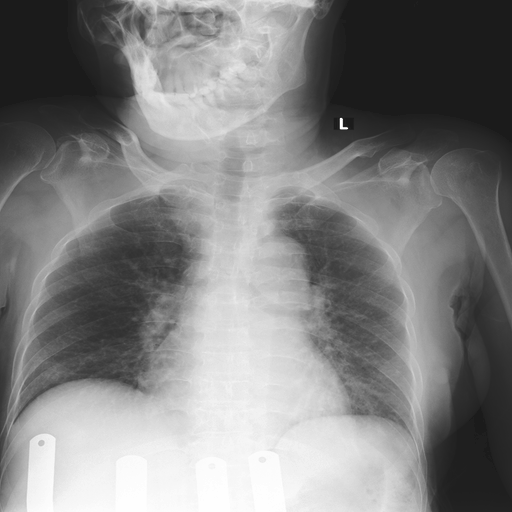Consolidation: (242, 233, 308, 292)
Nodule/Mass: (137, 359, 355, 426)
